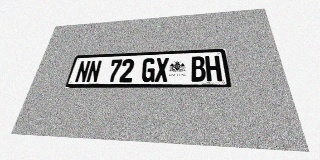2: (119, 59, 135, 82)
7: (106, 59, 122, 82)
B: (190, 56, 206, 82)
G: (141, 58, 156, 82)
H: (205, 55, 222, 81)
N: (74, 60, 91, 83), (86, 60, 102, 83)
X: (154, 57, 169, 82)
